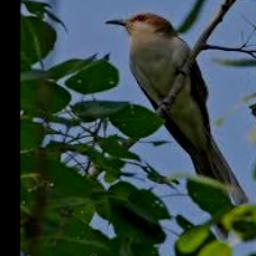Cuckoo: (104, 12, 248, 240)
